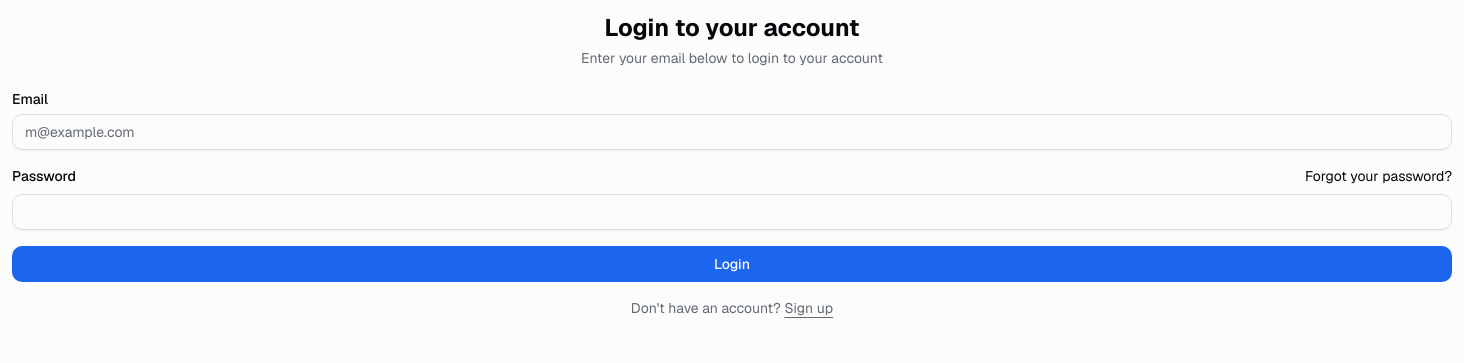
Test case: LoginForm Component - Real User Scenarios › User Input › should validate password minimum length
Type "alice@example.com" into the field labelled "Email" at (732, 132), box [12,114,1452,150]
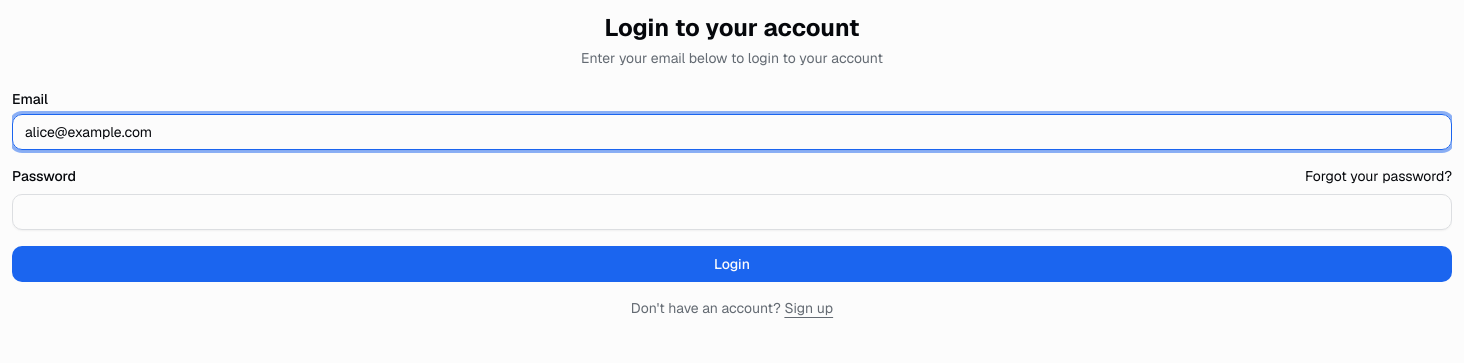
Type "short" into the password field labelled "Password" at (732, 212), box [12,194,1452,230]
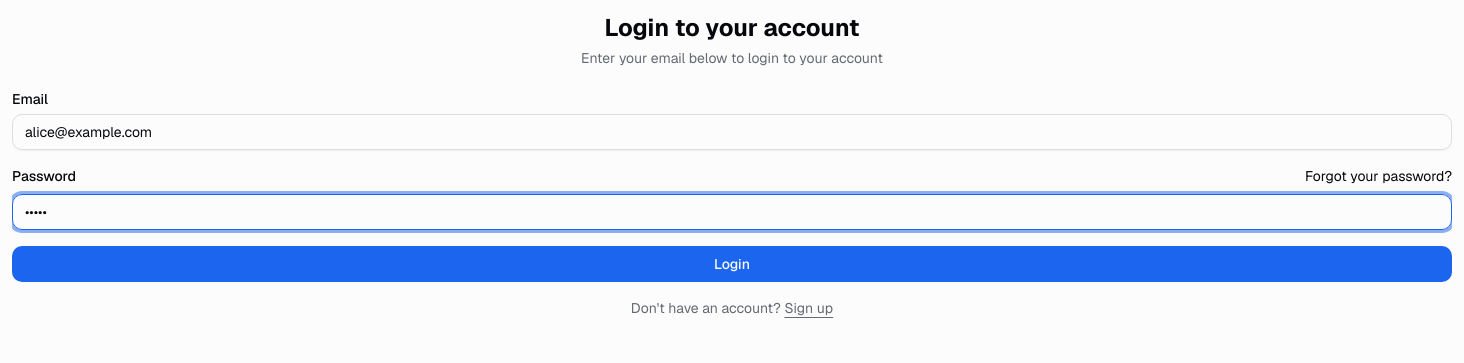
Click the button "Login" at (732, 264), box [12,246,1452,282]
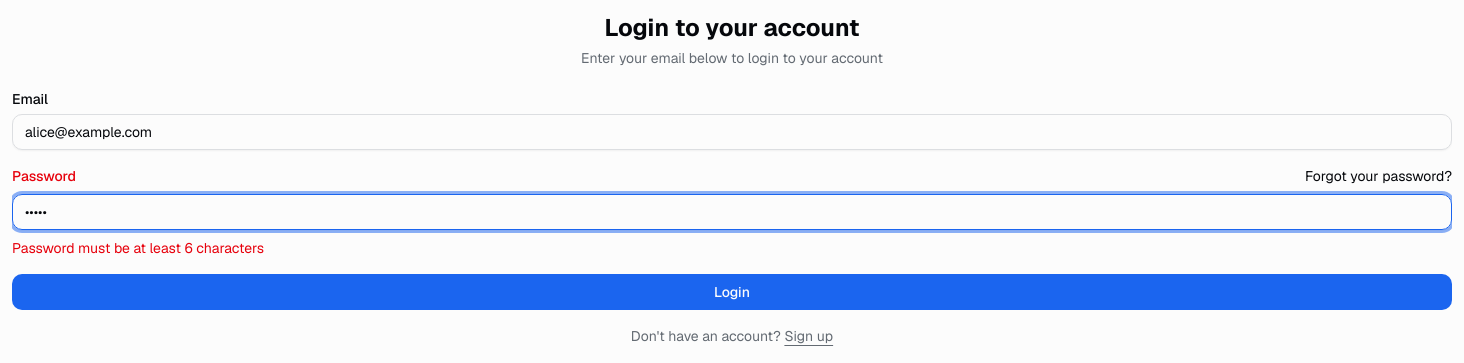
Check: the text "Password must be at least 6 characters" is shown, box [12,239,264,257]
